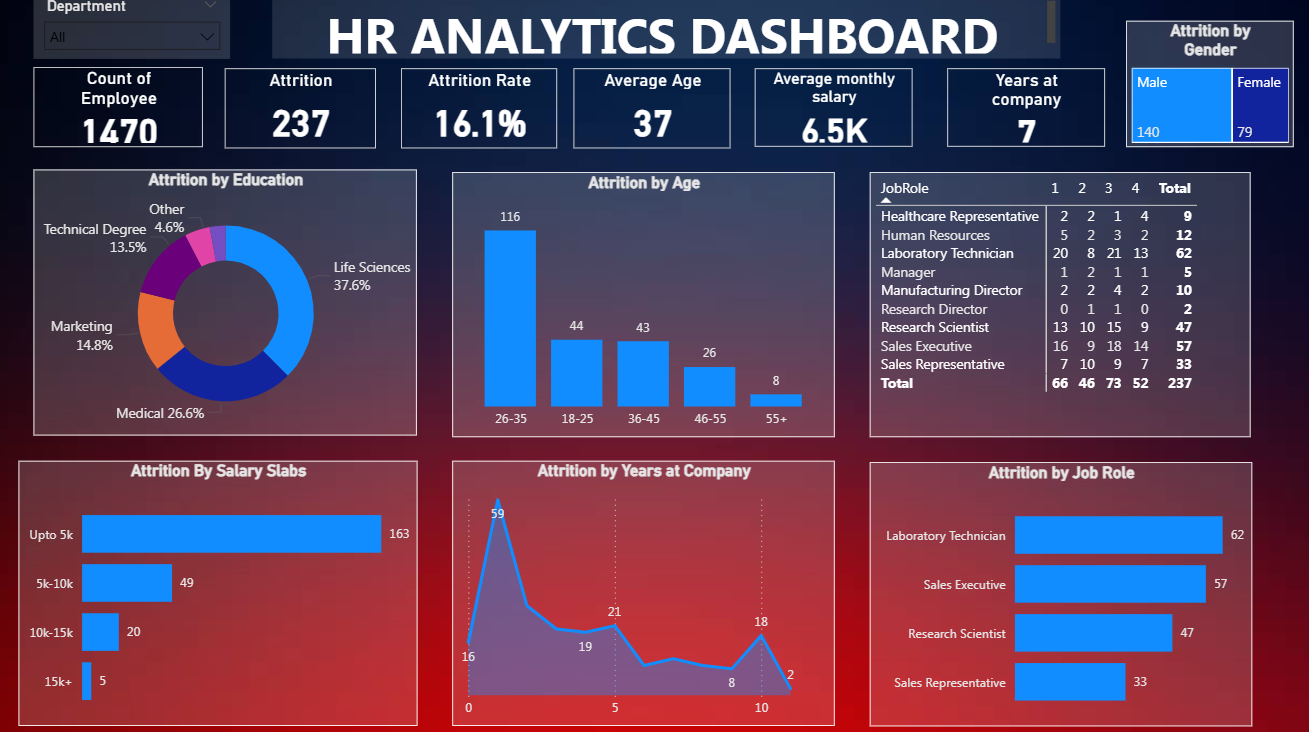

What the dashboard file says about the page in this screenshot:
{"tool":"powerbi","page":{"name":"Page 1","canvas":[1280,720],"ordinal":0},"visuals":[{"type":"card","title":"Count of Employee","fields":{"Values":["Count(HR_Analytics.EmpID)"]},"box":[40.7,73.1,164.2,77.9],"z":0},{"type":"card","title":"Attrition","fields":{"Values":["Sum(HR_Analytics.AttritionCount)"]},"box":[226.5,74.3,146.2,77.9],"z":1000},{"type":"card","title":"Average Age","fields":{"Values":["Avg(HR_Analytics.Age)"]},"box":[564.5,74.3,152.2,77.9],"z":2000},{"type":"card","title":"Attrition Rate","fields":{"Values":["HR_Analytics.AttritonRate"]},"box":[396.7,74.3,151,77.9],"z":3000},{"type":"card","title":"Average monthly salary","fields":{"Values":["Avg(HR_Analytics.MonthlyIncome)"]},"box":[739.6,73.8,152.5,76.3],"z":4000},{"type":"card","title":"Years at company","fields":{"Values":["Avg(HR_Analytics.YearsAtCompany)"]},"box":[926,73.8,152.5,76.3],"z":5000},{"type":"donutChart","title":"Attrition by Education","fields":{"Category":["HR_Analytics.EducationField"],"Y":["Sum(HR_Analytics.AttritionCount)"]},"box":[41.2,172.1,371.2,257.4],"z":6000},{"type":"columnChart","title":"Attrition by Age","fields":{"Category":["HR_Analytics.AgeGroup"],"Y":["Sum(HR_Analytics.AttritionCount)"]},"box":[447,173.8,370.3,256.5],"z":7000},{"type":"pivotTable","fields":{"Rows":["HR_Analytics.JobRole"],"Columns":["HR_Analytics.JobSatisfaction"],"Values":["Sum(HR_Analytics.AttritionCount)"]},"box":[850.9,173.8,369.1,256.5],"z":8000},{"type":"barChart","title":"Attrition By Salary Slabs","fields":{"Category":["HR_Analytics.SalarySlab"],"Y":["Sum(HR_Analytics.AttritionCount)"]},"box":[26.6,453.9,386.1,256.6],"z":9000},{"type":"barChart","title":"Attrition by Job Role","fields":{"Y":["Sum(HR_Analytics.AttritionCount)"],"Category":["HR_Analytics.JobRole"]},"box":[851.2,454.8,370.2,256],"z":10000},{"type":"areaChart","title":"Attrition by Years at Company","fields":{"Category":["HR_Analytics.YearsAtCompany"],"Y":["Sum(HR_Analytics.AttritionCount)"]},"box":[447,454.2,370.3,256.5],"z":11000},{"type":"treemap","title":"Attrition by Gender","fields":{"Group":["HR_Analytics.Gender"],"Values":["Sum(HR_Analytics.AttritionCount)"]},"box":[1099.4,28.4,162.1,122.3],"z":12000},{"type":"slicer","fields":{"Values":["HR_Analytics.Department"]},"box":[40.7,0,190.6,64.7],"z":13000},{"type":"textbox","box":[272.1,3.6,763.4,61.1],"z":14000}]}

Visuals, with their boxes in screenshot pixels (x1, y1, x2, y2), scaled from the page's 1280x720 canvas onto the 1309x732 screenshot:
"Count of Employee" card: Rect(42, 74, 210, 154)
"Attrition" card: Rect(232, 76, 381, 155)
"Average Age" card: Rect(577, 76, 733, 155)
"Attrition Rate" card: Rect(406, 76, 560, 155)
"Average monthly salary" card: Rect(756, 75, 912, 153)
"Years at company" card: Rect(947, 75, 1103, 153)
"Attrition by Education" donutChart: Rect(42, 175, 422, 437)
"Attrition by Age" columnChart: Rect(457, 177, 836, 437)
pivotTable - HR_Analytics.JobRole x HR_Analytics.JobSatisfaction: Rect(870, 177, 1248, 437)
"Attrition By Salary Slabs" barChart: Rect(27, 461, 422, 722)
"Attrition by Job Role" barChart: Rect(870, 462, 1249, 723)
"Attrition by Years at Company" areaChart: Rect(457, 462, 836, 723)
"Attrition by Gender" treemap: Rect(1124, 29, 1290, 153)
slicer - HR_Analytics.Department: Rect(42, 0, 237, 66)
textbox: Rect(278, 4, 1059, 66)
